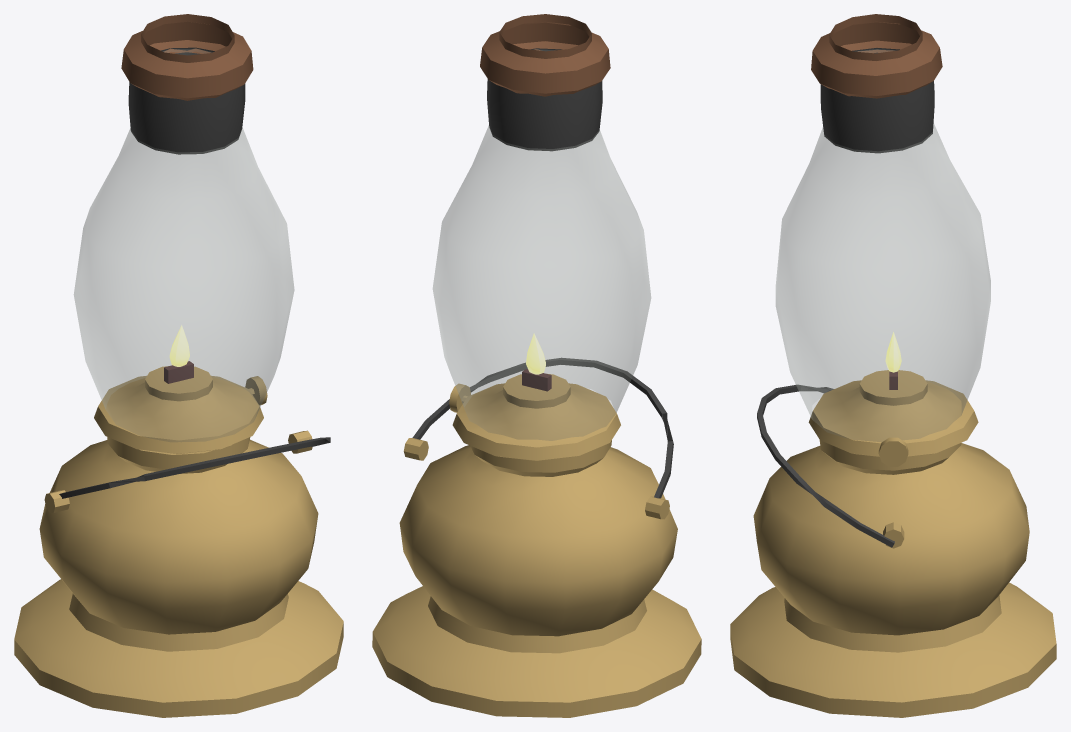
The model's file is oil_lamp.glb.
3 views of the same model, side by side, from view 1: azimuth 30°, elevation 25°; view 2: azimuth 150°, elevation 25°; view 3: azimuth 270°, elevation 25° (orthographic).
Visible parts, largest first — view 1: oil_lamp_static, INT_oil_lamp_flame; view 2: oil_lamp_static, INT_oil_lamp_flame; view 3: oil_lamp_static.
Boxes of the visible parts, bbox=[...] form: oil_lamp_static: bbox=[14, 14, 343, 717]; INT_oil_lamp_flame: bbox=[169, 325, 189, 366]; oil_lamp_static: bbox=[372, 14, 701, 717]; INT_oil_lamp_flame: bbox=[526, 333, 545, 374]; oil_lamp_static: bbox=[730, 14, 1056, 717].
Size of the model in its own units: 0.1558 by 0.3217 by 0.1538.
